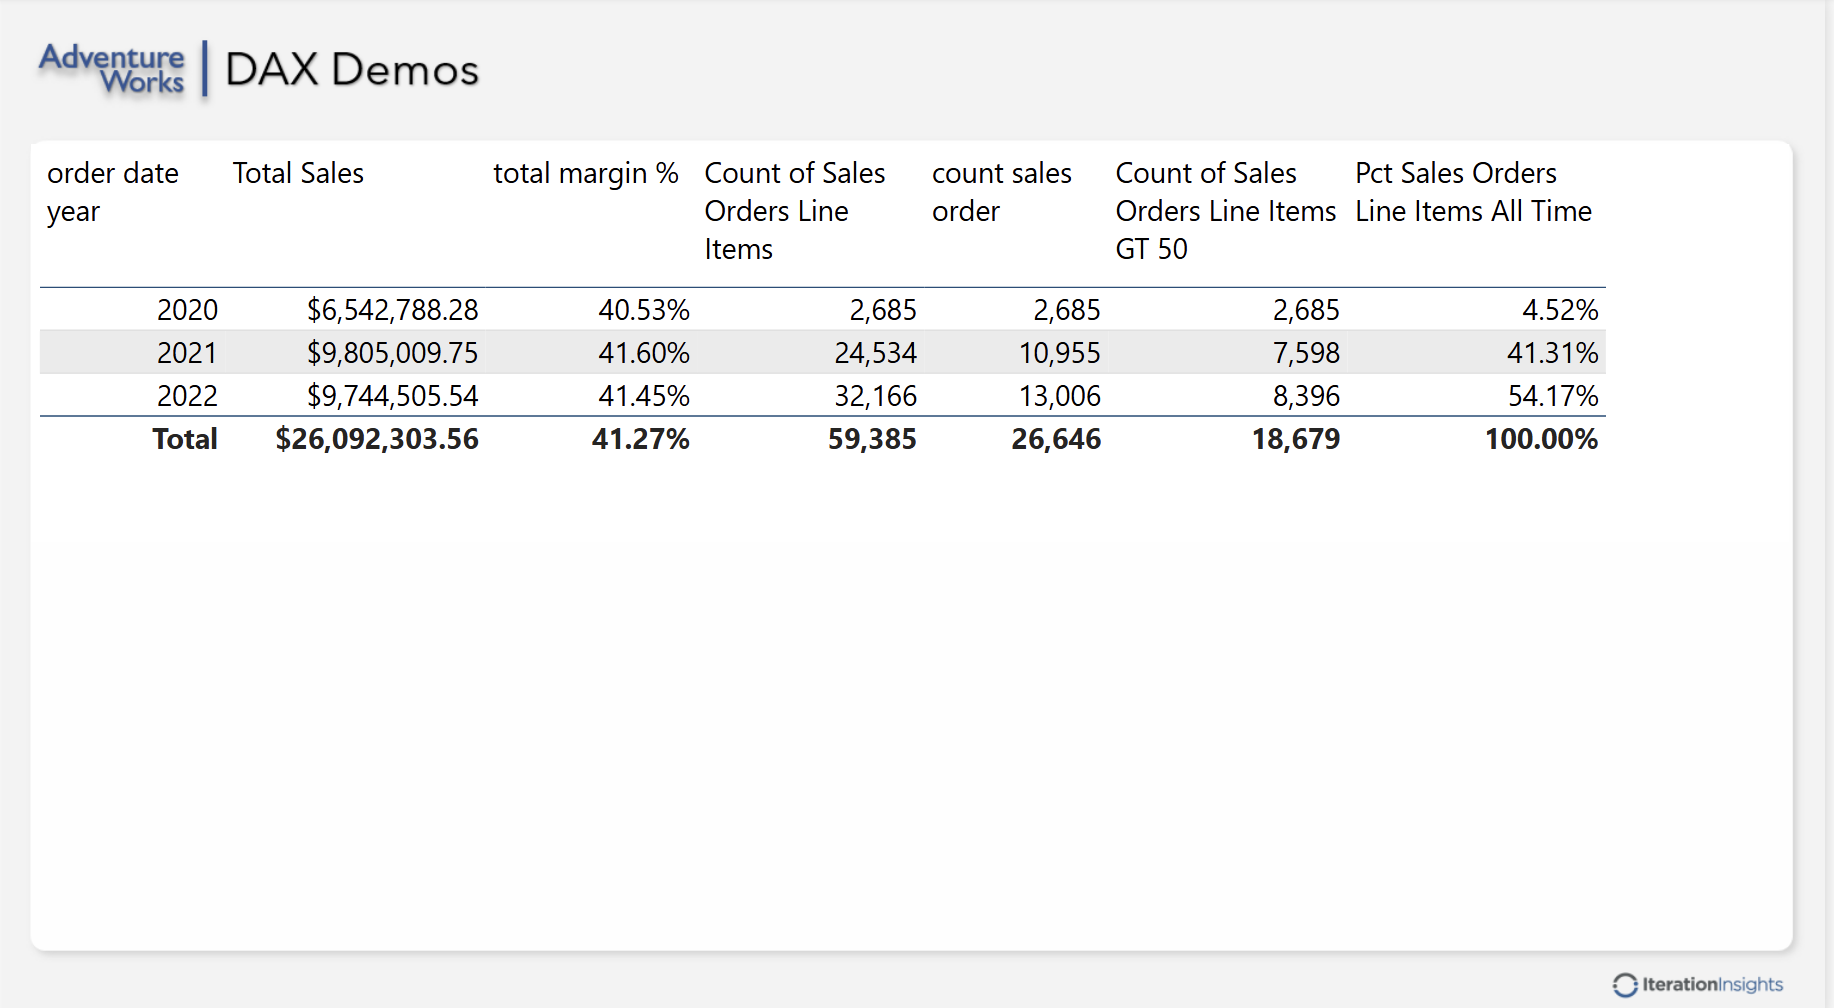

This screenshot's page, from the dashboard's own definition file:
{"tool":"powerbi","page":{"name":"Dax demos","canvas":[1280,720],"ordinal":1},"visuals":[{"type":"tableEx","fields":{"Values":["order date.order date year","Sales.Total Sales","Sales.total margin %","Sales.Count of Sales Orders Line Items","Sales.count sales order","Sales.Count of Sales Orders Line Items GT 50","Sales.Pct Sales Orders Line Items All Time"]},"box":[24.3,105.7,1231.4,278.6],"z":0}]}

Visuals, with their boxes in screenshot pixels (x1, y1, x2, y2), scaled from the page's 1280x720 canvas onto the 1834x1008 screenshot:
tableEx - order date.order date year x Sales.Total Sales: (35, 148, 1799, 538)
